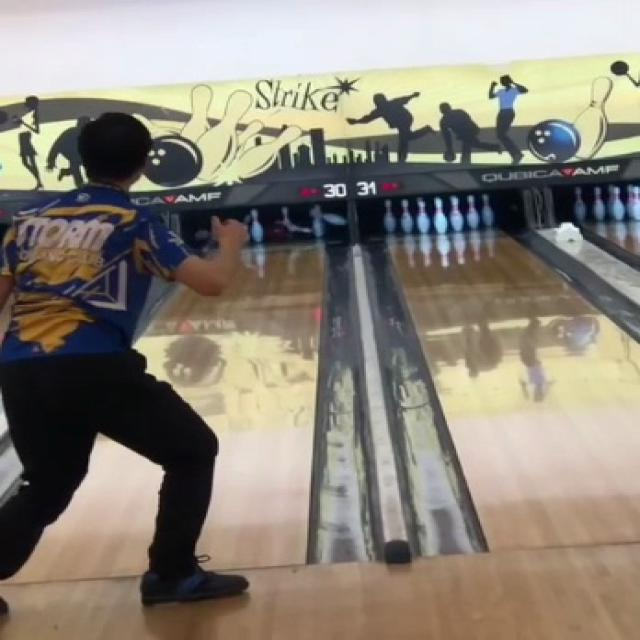alley: (138, 245, 322, 569), (9, 441, 160, 581)
balls: (265, 220, 289, 242)
bottle: (280, 205, 346, 237), (250, 211, 263, 243)
